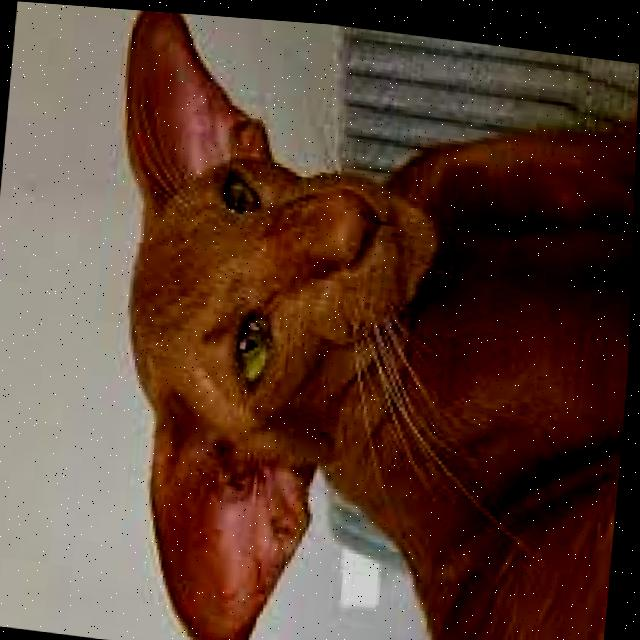Oriental: (72, 5, 640, 640)
